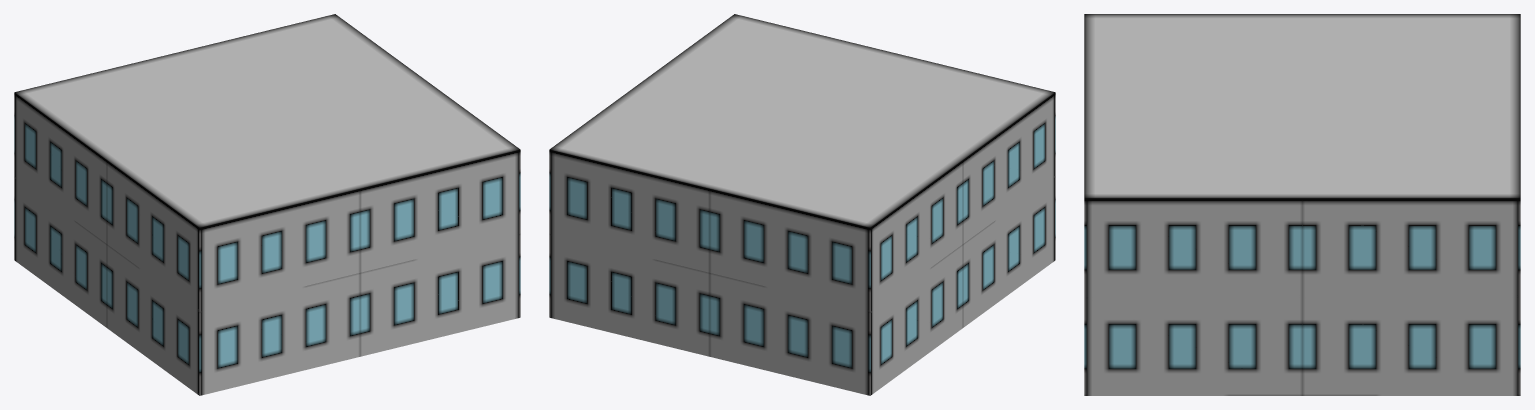
Rendered from OfficeTop.fbx.
3 views of the same model, side by side, from view 1: azimuth 30°, elevation 25°; view 2: azimuth 150°, elevation 25°; view 3: azimuth 270°, elevation 25° (orthographic). The views are drawn at different scales.
Visible parts, largest first — view 1: Plane, Cube.005, Cube.006, Cube.003, Cube.004; view 2: Plane, Cube.001, Cube.002, Cube.004, Cube.003; view 3: Plane, Cube.007, Cube.008.
Part boxes in pixels (<box>): Plane: <box>15,14,519,227</box>; Cube.005: <box>199,189,360,395</box>; Cube.006: <box>360,149,520,356</box>; Cube.003: <box>14,92,106,327</box>; Cube.004: <box>107,160,199,395</box>; Plane: <box>550,14,1054,227</box>; Cube.001: <box>709,189,870,395</box>; Cube.002: <box>549,149,709,356</box>; Cube.004: <box>963,92,1055,327</box>; Cube.003: <box>870,160,962,395</box>; Plane: <box>1084,14,1520,198</box>; Cube.007: <box>1084,198,1302,395</box>; Cube.008: <box>1302,198,1520,395</box>.
Size of the model in its own units: 200 by 100 by 200.
